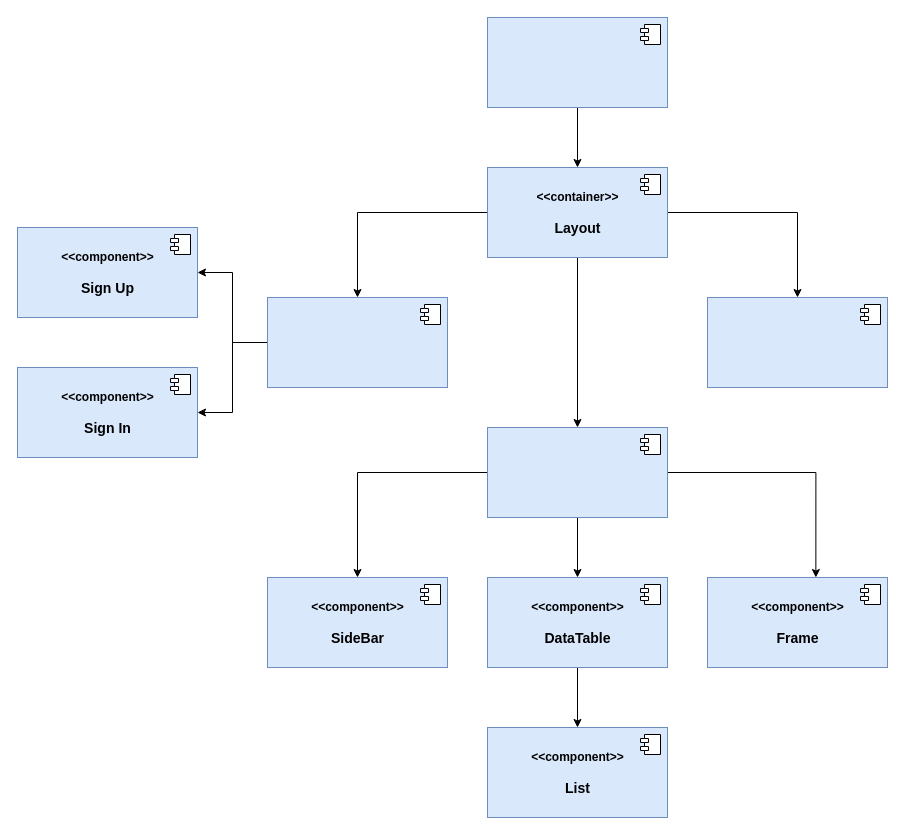
This 905x835 diagram has some shape labels left out. The shapes that lost their labels are listed below. From the top down, each one's centre as x and y in pixels, then its label:
At (x=577, y=62): "<<component>> App".
At (x=357, y=342): "<<component>> NavBar".
At (x=797, y=342): "<<component>> SearchBar".
At (x=577, y=472): "<<component>> Dashboard".
